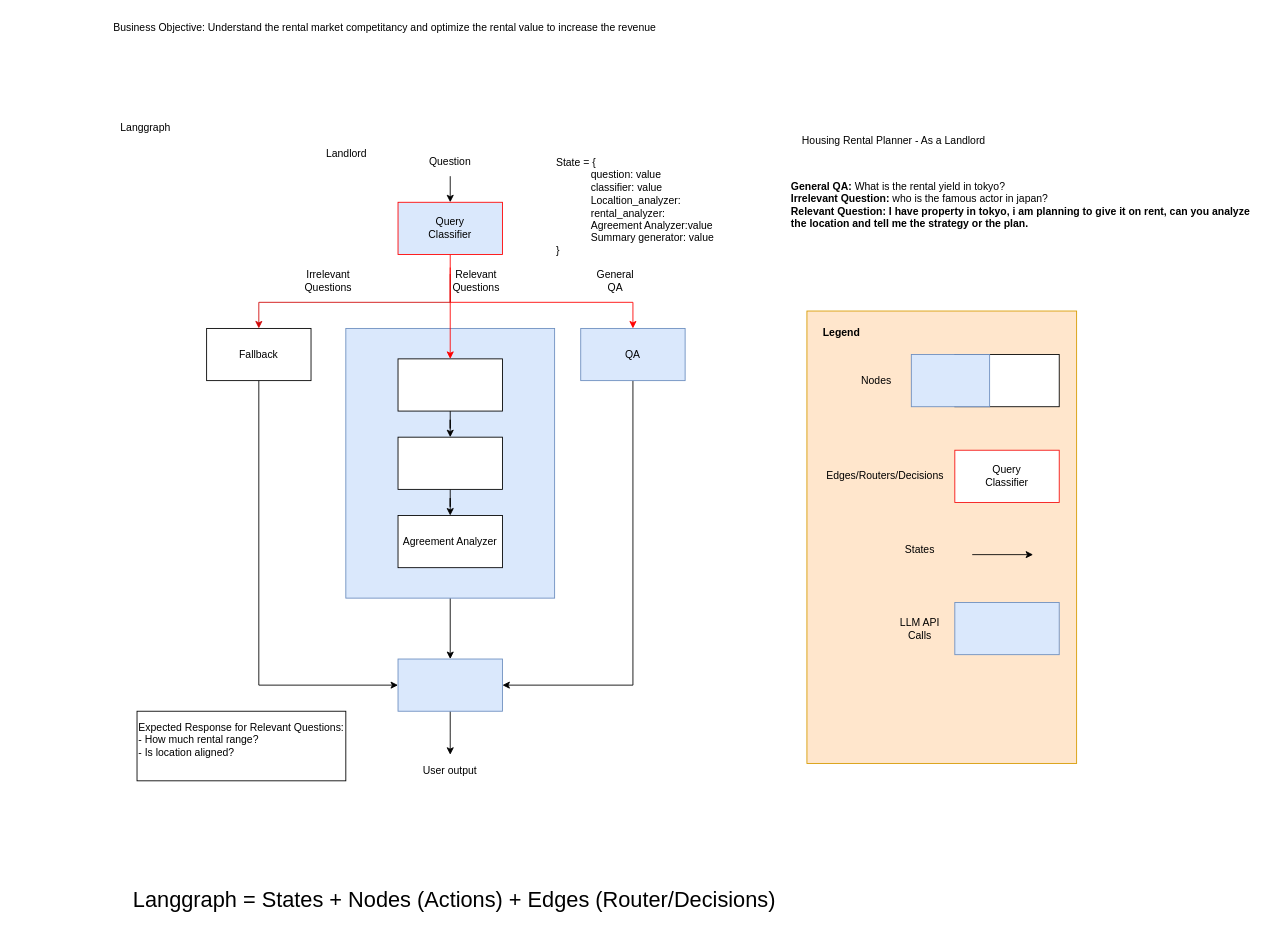
Image size: 1282x926. Some labels were removed from this diagram. Each missing label, with the centre of its shape:
"Location Analyzer" goes at pixel 449 384.
"Rent Analyzer" goes at pixel 449 462.
"Summary generator" goes at pixel 449 684.
